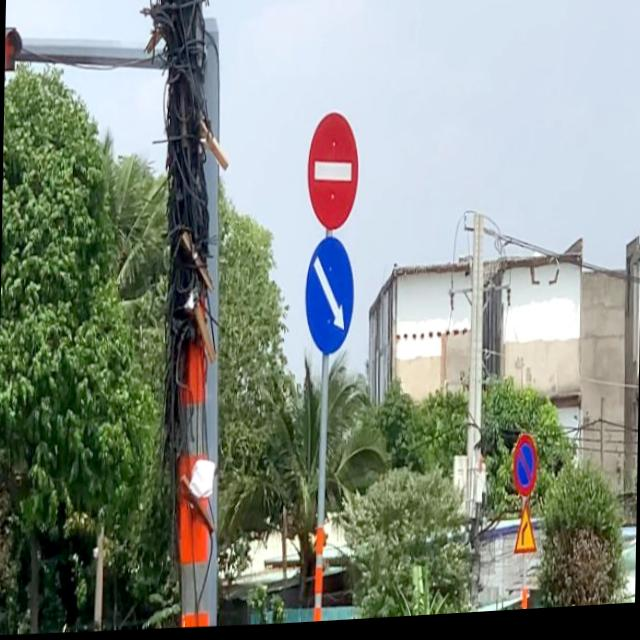Cam di nguoc chieu: (306, 113, 360, 236)
Cam do xe: (512, 438, 538, 504)
Vong chuong ngai vat sang phai: (304, 238, 355, 359)
cho ngoat nguy hiem vong ben phai: (513, 504, 537, 561)
